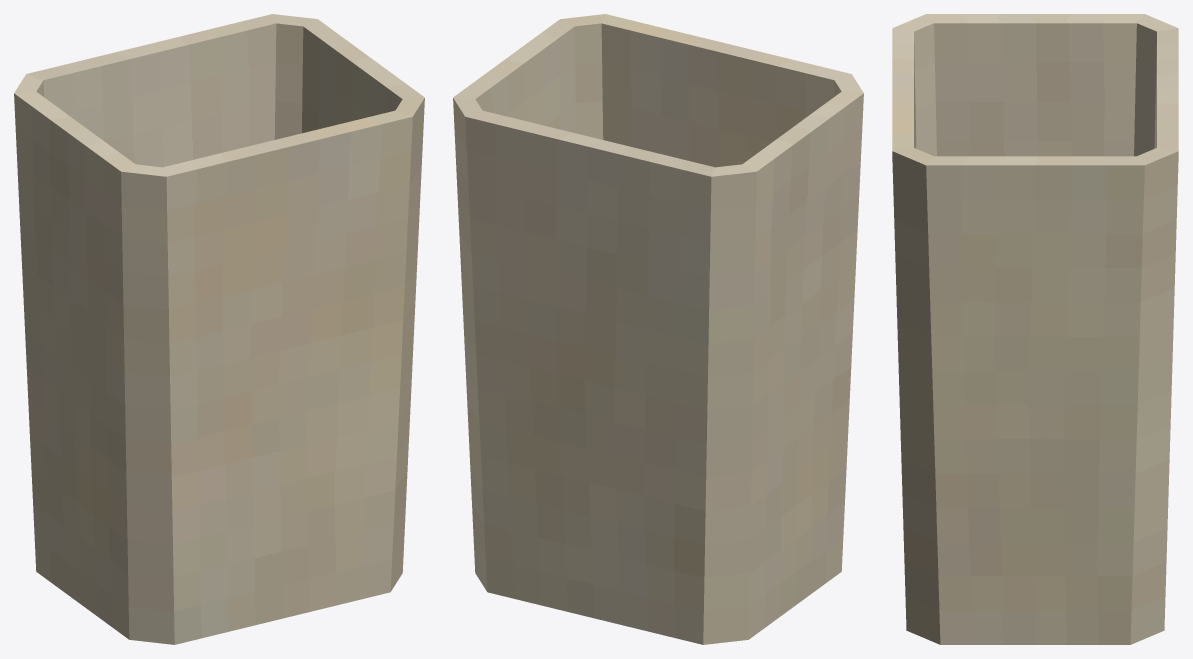
The model's file is TrashCan02.glb.
3 views of the same model, side by side, from view 1: azimuth 30°, elevation 25°; view 2: azimuth 150°, elevation 25°; view 3: azimuth 270°, elevation 25° (orthographic). The views are drawn at different scales.
Visible parts, largest first — view 1: TrashCan02; view 2: TrashCan02; view 3: TrashCan02.
Part boxes in pixels (x1,y1,x2,y2): TrashCan02: (14,14,424,644); TrashCan02: (453,14,863,644); TrashCan02: (892,14,1178,644).
Size of the model in its own units: 0.4 by 0.6 by 0.32.
Materials: 1 (1 with a texture image).
